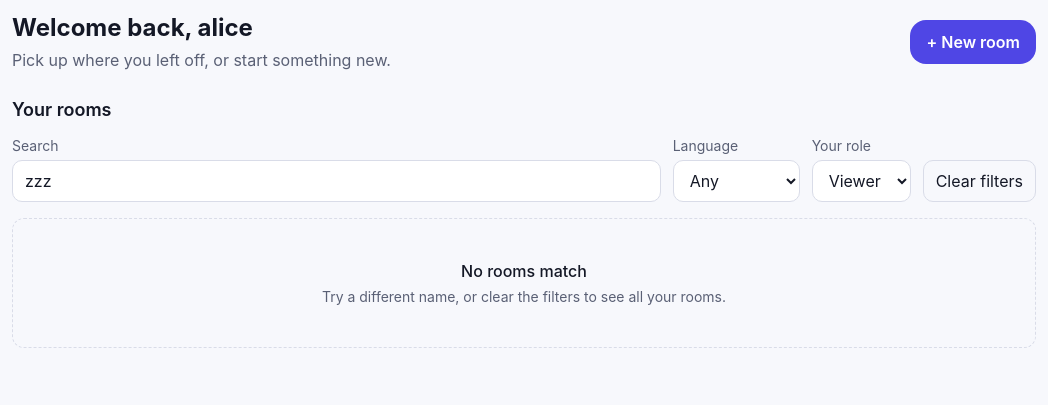
Dashboard › says when nothing matches, and clearing the filters shows every room again
Expected: the text "No rooms match" is shown, [461,261,587,281]
Expected: the search field labelled "Search" holds "zzz", [12,160,661,202]
Click the button "Clear filters": (979, 181) [923,160,1036,202]
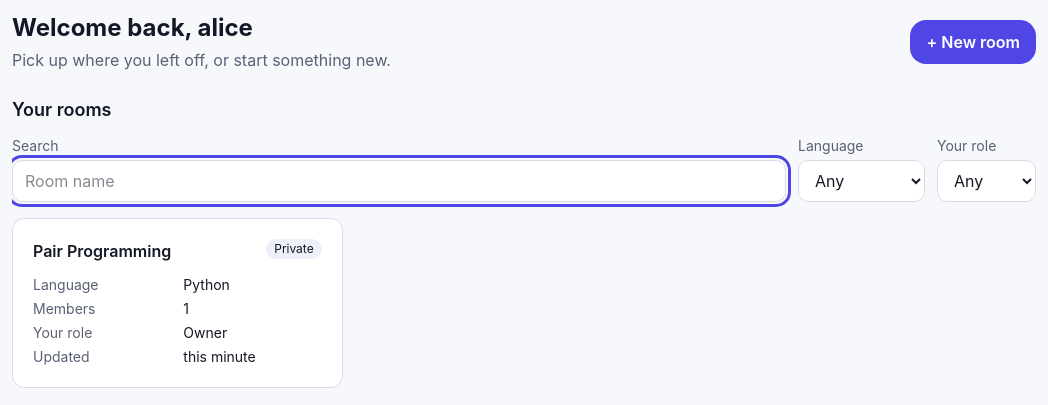
Expected: the link "Pair Programming" is shown, [33,241,171,261]
Expected: the search field labelled "Search" is empty, [12,160,786,202]
